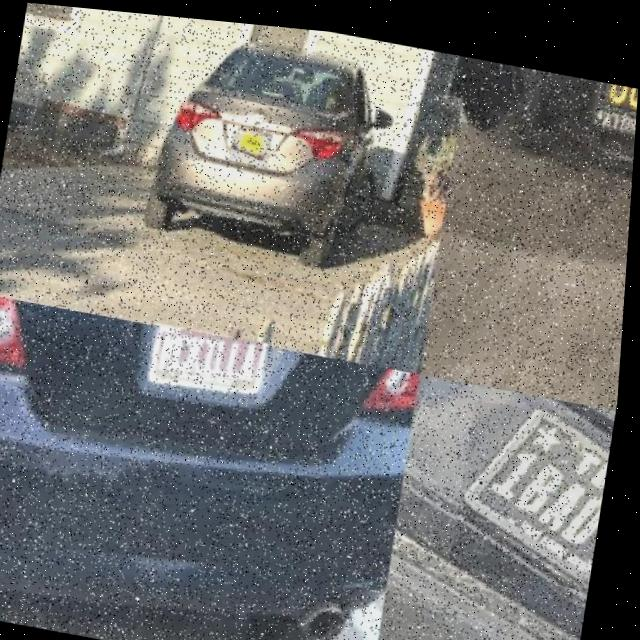LicensePlate: (465, 400, 613, 578), (150, 322, 273, 400), (232, 129, 272, 161)
